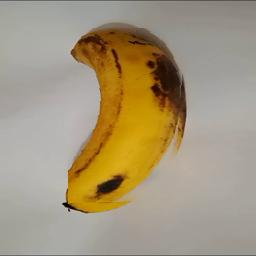Banana Semifresh: (68, 28, 186, 204)
